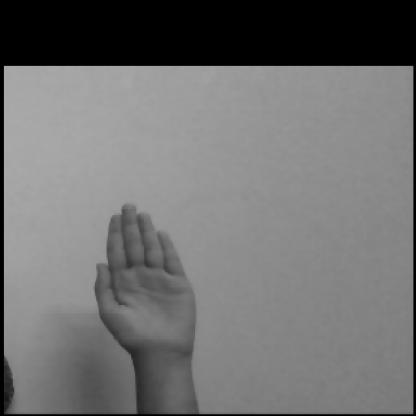palm: (55, 196, 248, 392)
